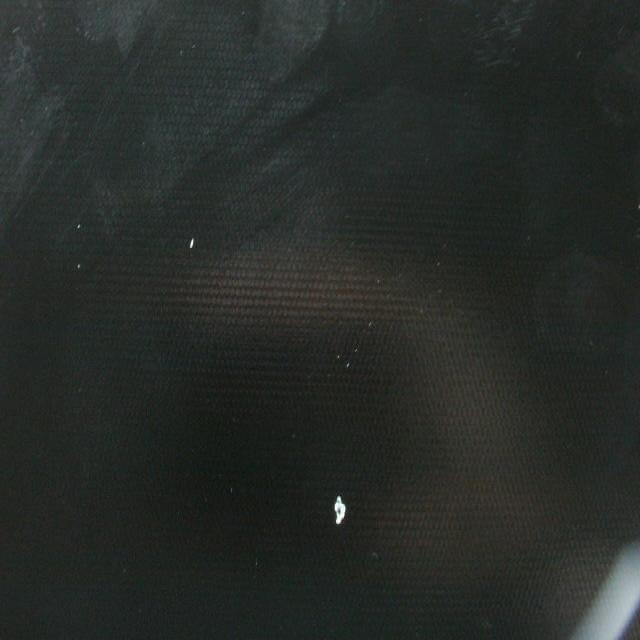very small scratch: (325, 485, 357, 535)
